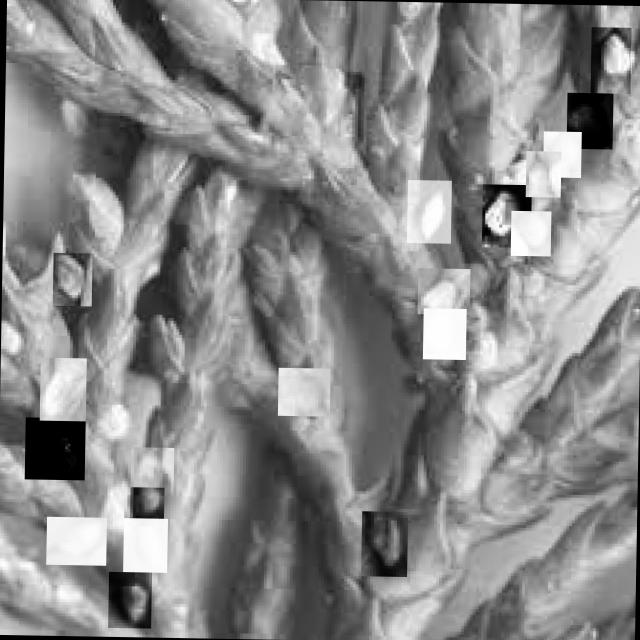scale_insect: (23, 417, 84, 480), (480, 184, 530, 248), (44, 516, 106, 566), (38, 357, 86, 421), (360, 511, 407, 576), (406, 180, 450, 243), (590, 26, 630, 94), (566, 92, 612, 149), (276, 367, 329, 416), (106, 571, 150, 628), (416, 268, 469, 314), (122, 518, 166, 572), (422, 308, 466, 360), (52, 252, 92, 308), (132, 447, 173, 496), (509, 210, 550, 256), (542, 130, 580, 178), (524, 150, 560, 198), (122, 486, 164, 526)
